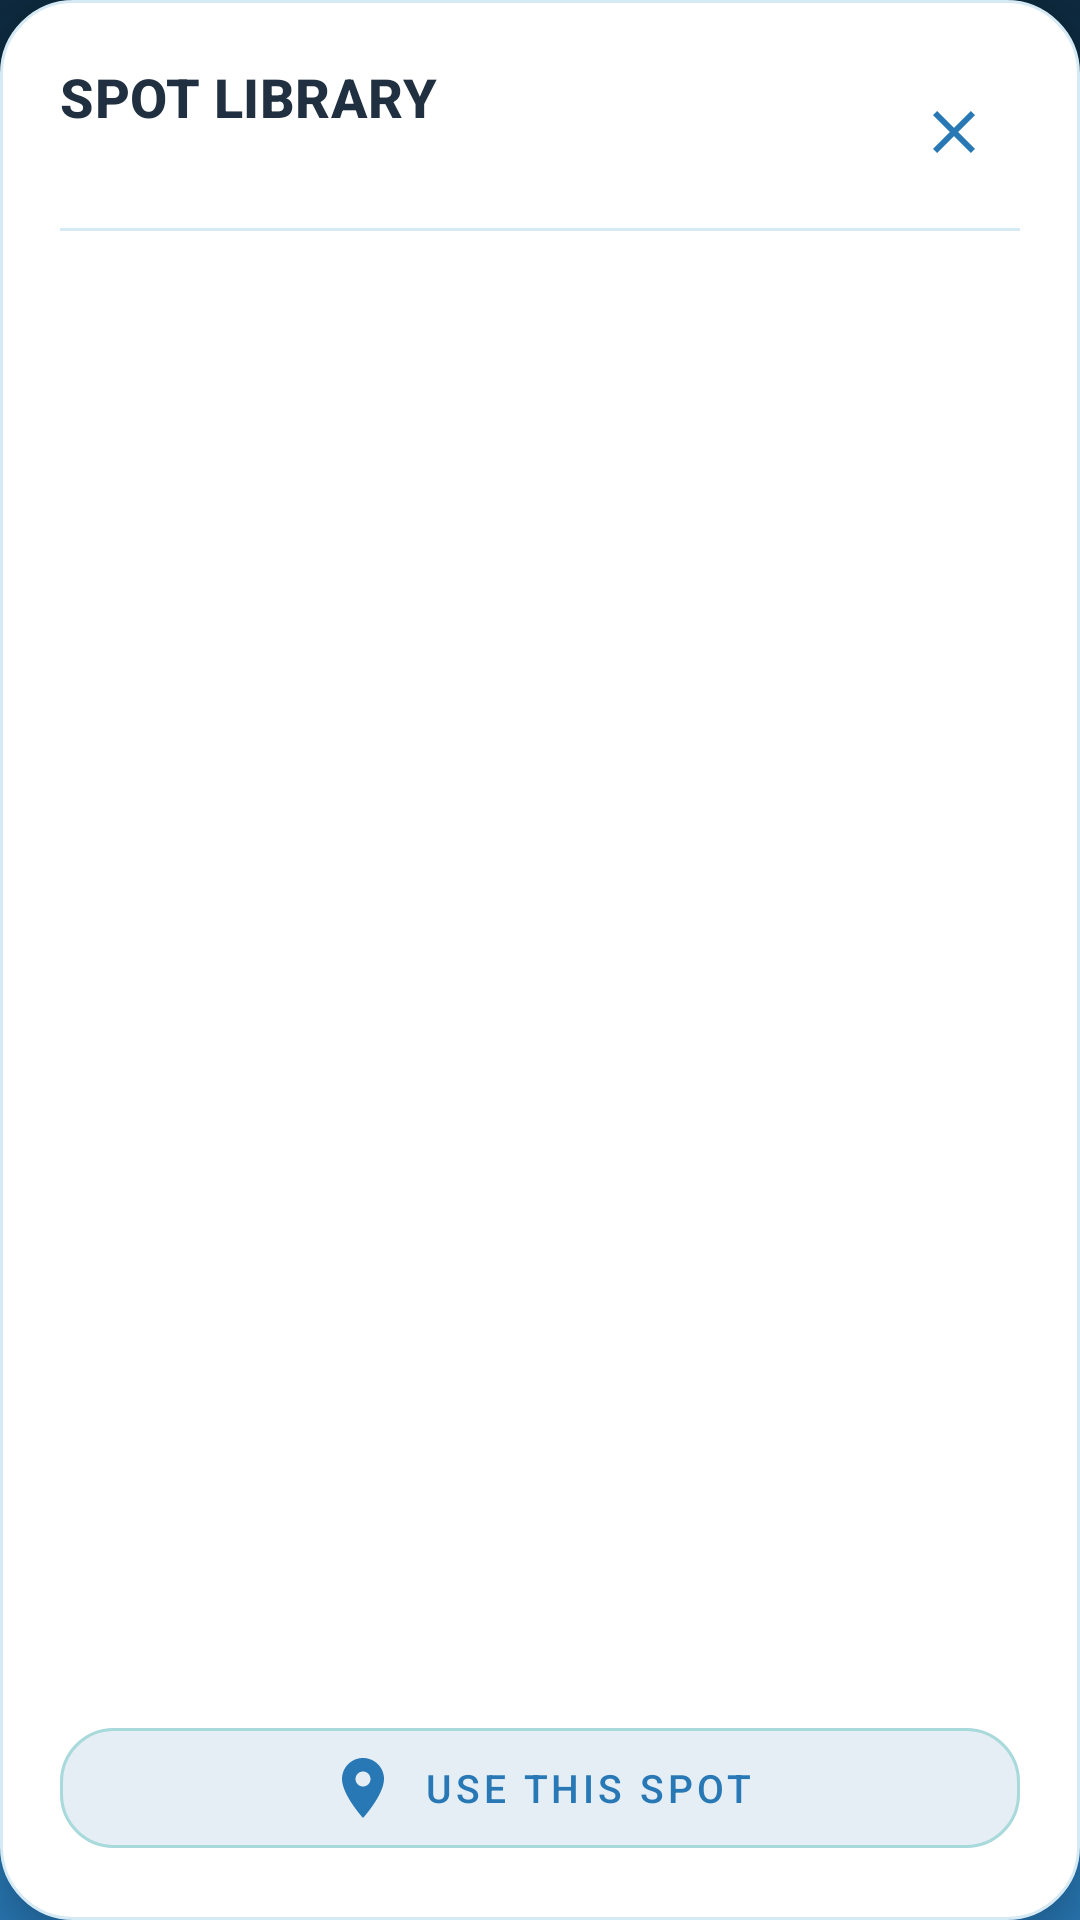

Icons on this 1080px x 1920px Android screen, each with its box as [x1, y1, x2, y2]:
Close spot library: [933, 111, 975, 153]
